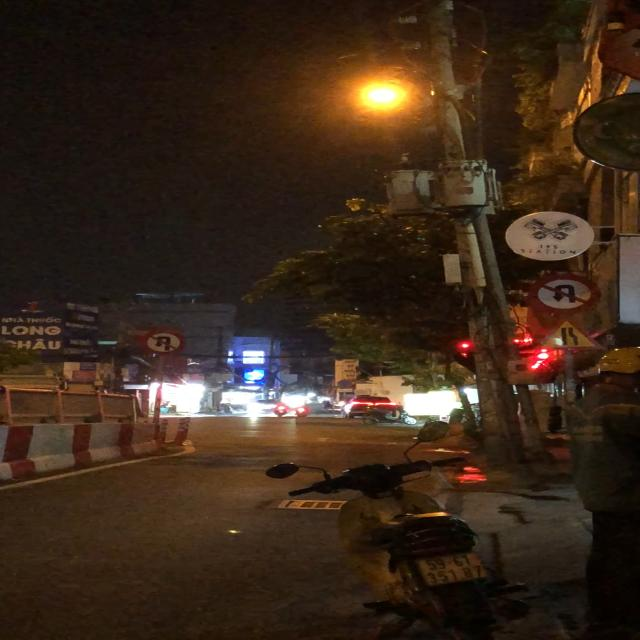Bien bao cam quay dau xe: (526, 270, 602, 313), (142, 327, 190, 357)
Bien bao duong bi thu hep: (535, 318, 610, 355)
